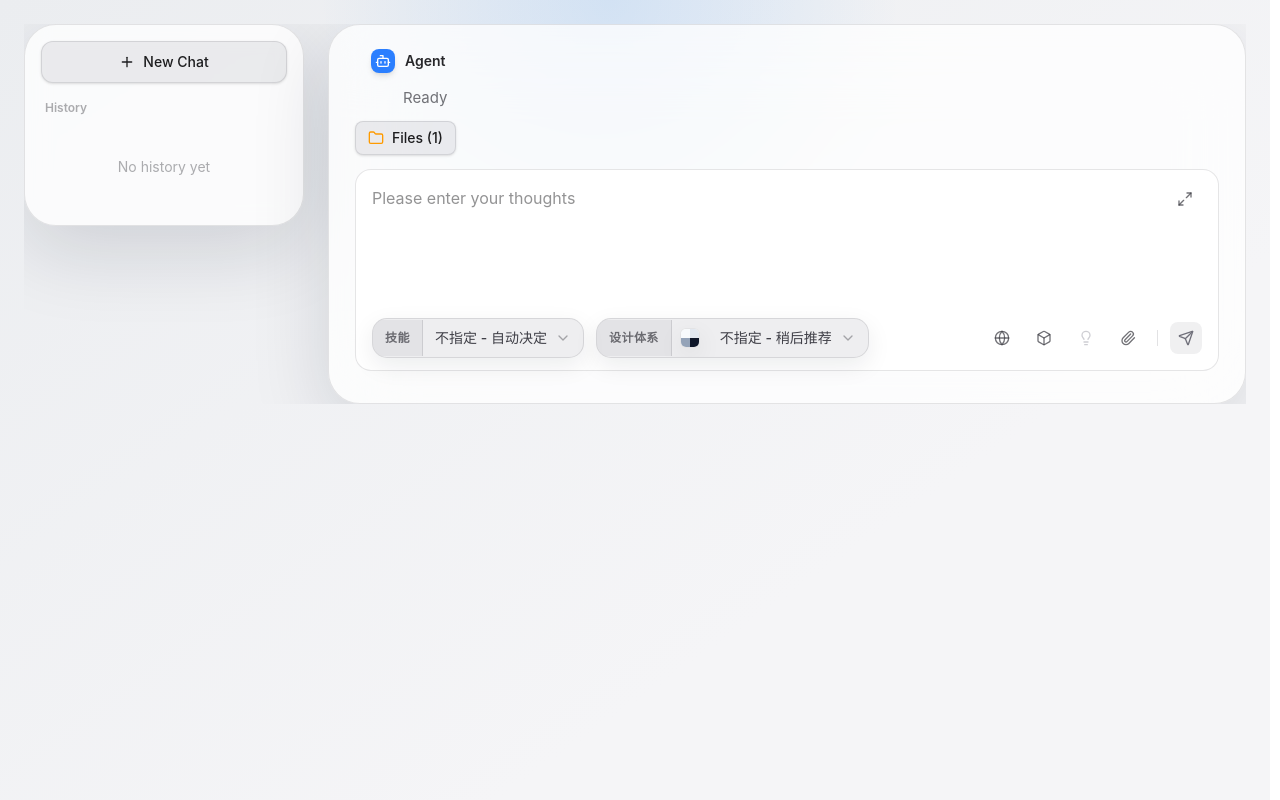
Test: ChatHomePage previews › opens markdown session files in the side preview panel and hides history while previewing
The width and height of the screenshot is (1280, 800).
Click the button "Files (1)" at (406, 138), box [355,120,456,154]
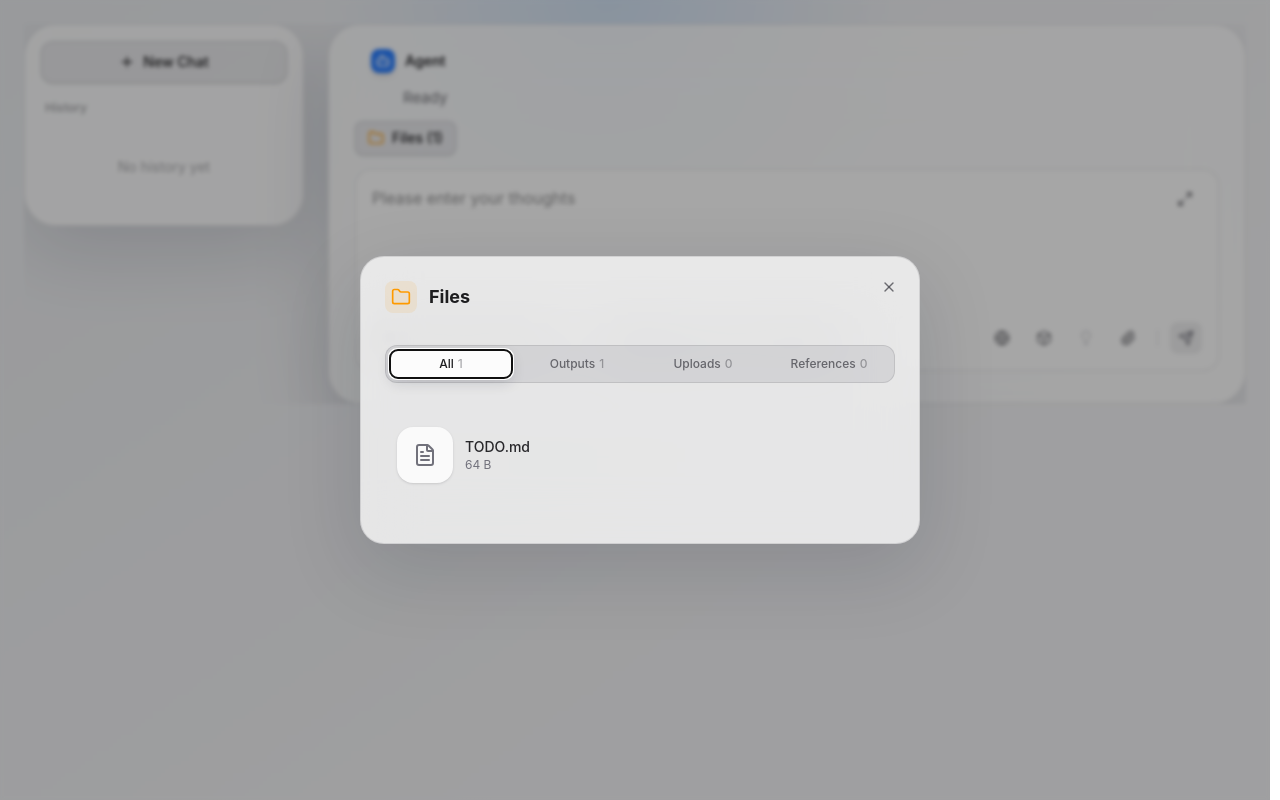
Click the text "TODO.md" at (498, 446), box [465,438,530,455]
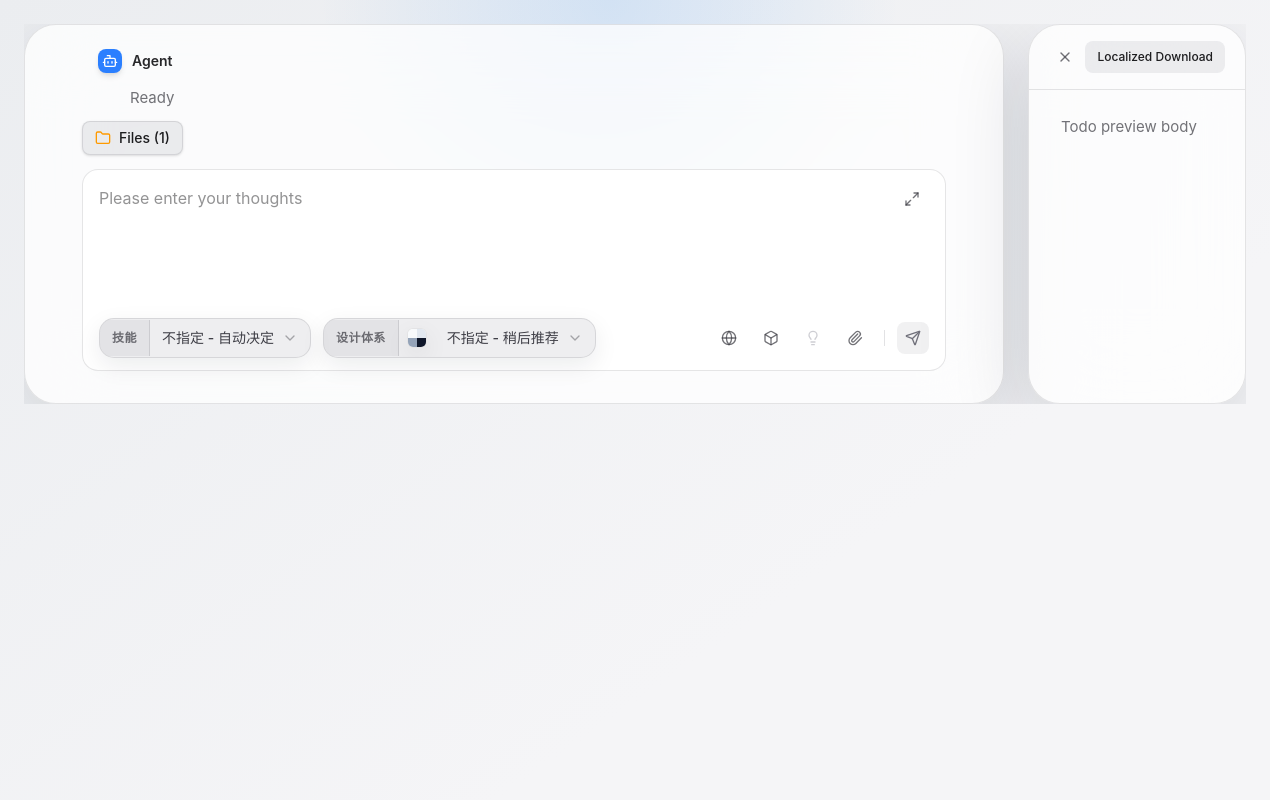
Result: the element with test id "home-chat-markdown-preview" is shown at [1028,24,1246,404]
Result: the element with test id "home-chat-history-scroll" is gone
